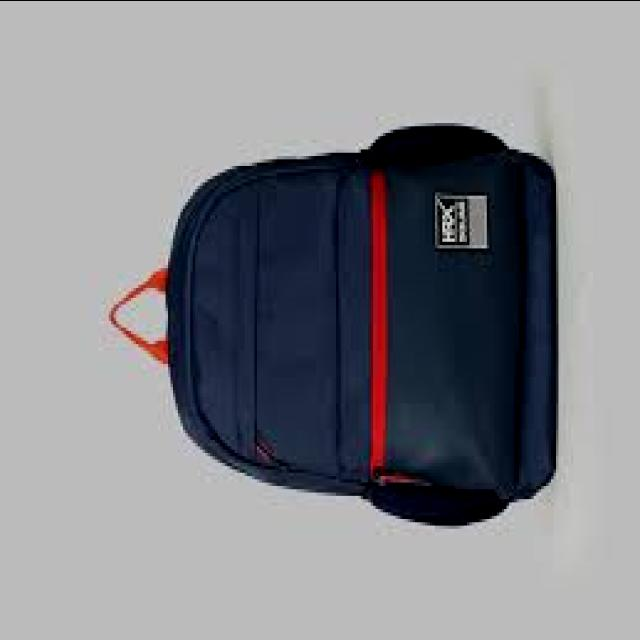backpack: (107, 127, 557, 529)
